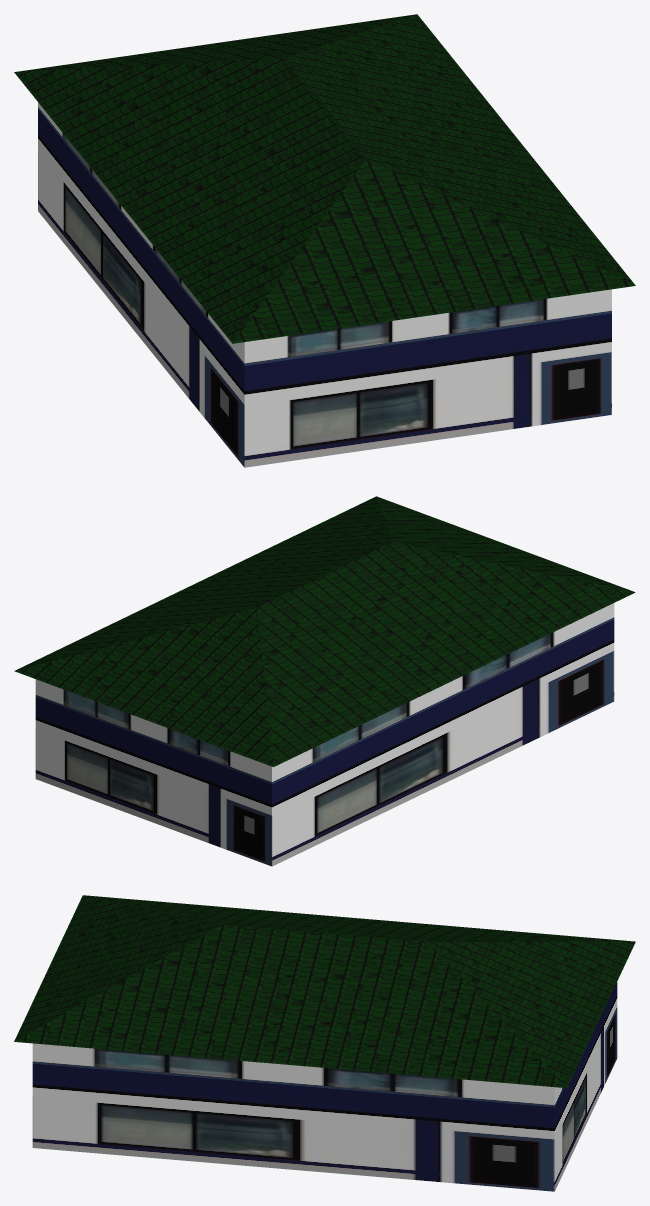
The picture shows the model from 3 angles, top to bottom: view 1: azimuth 30°, elevation 25°; view 2: azimuth 150°, elevation 25°; view 3: azimuth 270°, elevation 25°; orthographic projection. The views are drawn at different scales.
Visible parts, largest first — view 1: CityEngineMaterial_13_m, CityEngineMaterial_2_m; view 2: CityEngineMaterial_13_m, CityEngineMaterial_2_m; view 3: CityEngineMaterial_13_m, CityEngineMaterial_2_m.
Boxes of the visible parts, bbox=[...] form: CityEngineMaterial_13_m: bbox=[14, 14, 635, 343]; CityEngineMaterial_2_m: bbox=[38, 102, 611, 467]; CityEngineMaterial_13_m: bbox=[14, 496, 635, 766]; CityEngineMaterial_2_m: bbox=[35, 603, 614, 866]; CityEngineMaterial_13_m: bbox=[14, 895, 635, 1088]; CityEngineMaterial_2_m: bbox=[32, 982, 617, 1191].
Size of the model in its own units: 27.19 by 11.15 by 37.03.
